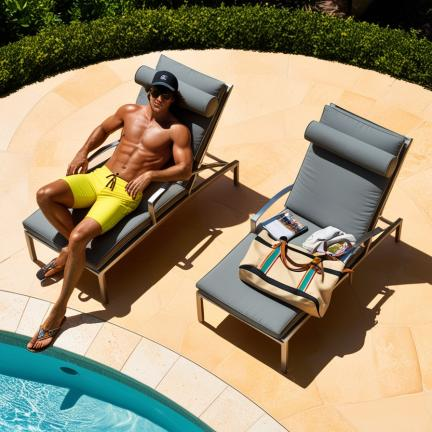guest on chair: (23, 55, 238, 351)
occupied chair: (197, 104, 412, 370)
